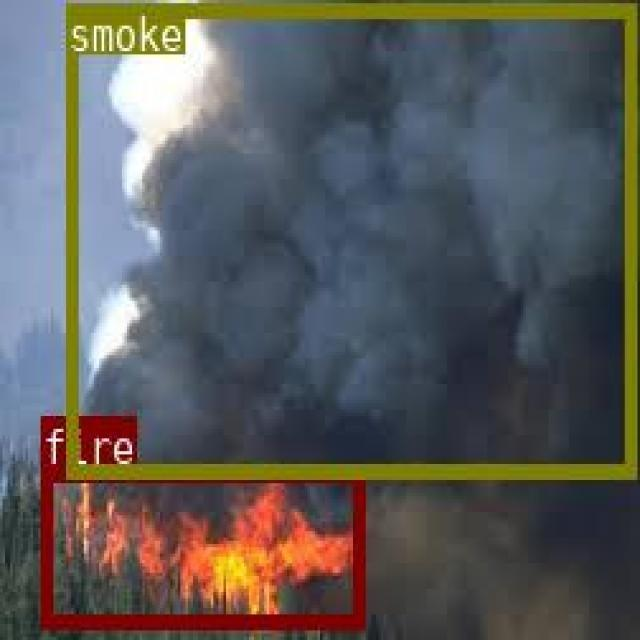fire: (40, 465, 362, 627)
smoke: (64, 1, 634, 476)
